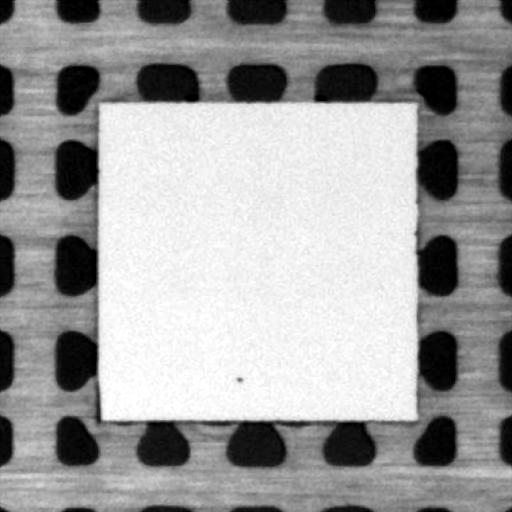DIE_INK: (233, 372, 245, 385)
